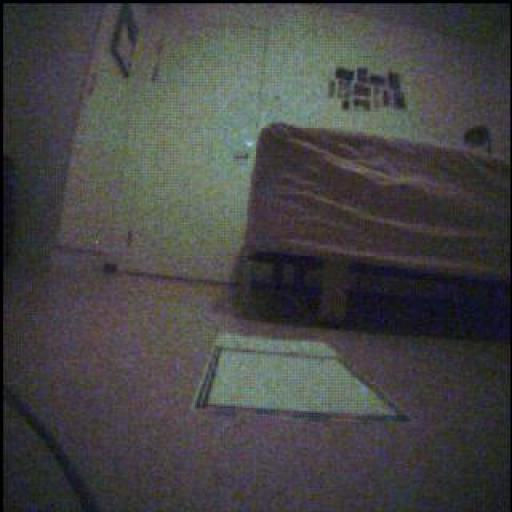pad: (195, 334, 408, 422)
